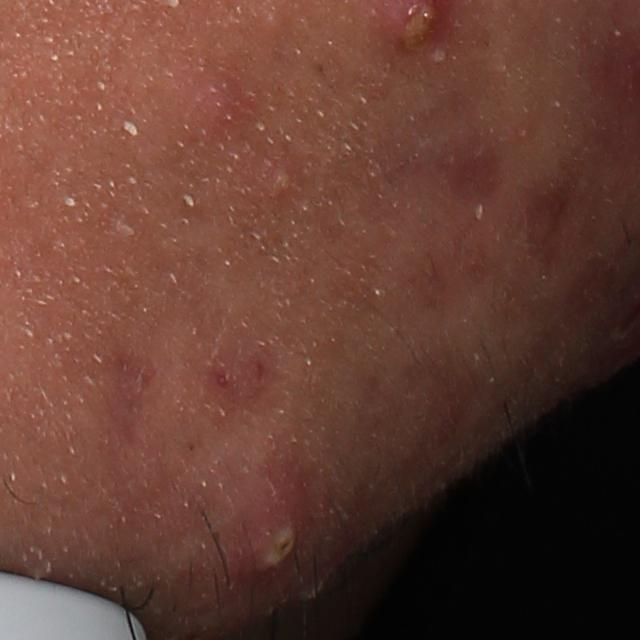atrophic_scar: (106, 332, 158, 462)
other: (116, 117, 143, 138), (61, 193, 80, 208)
papule: (161, 54, 253, 154)
pustule: (242, 474, 322, 583), (268, 160, 297, 202)
